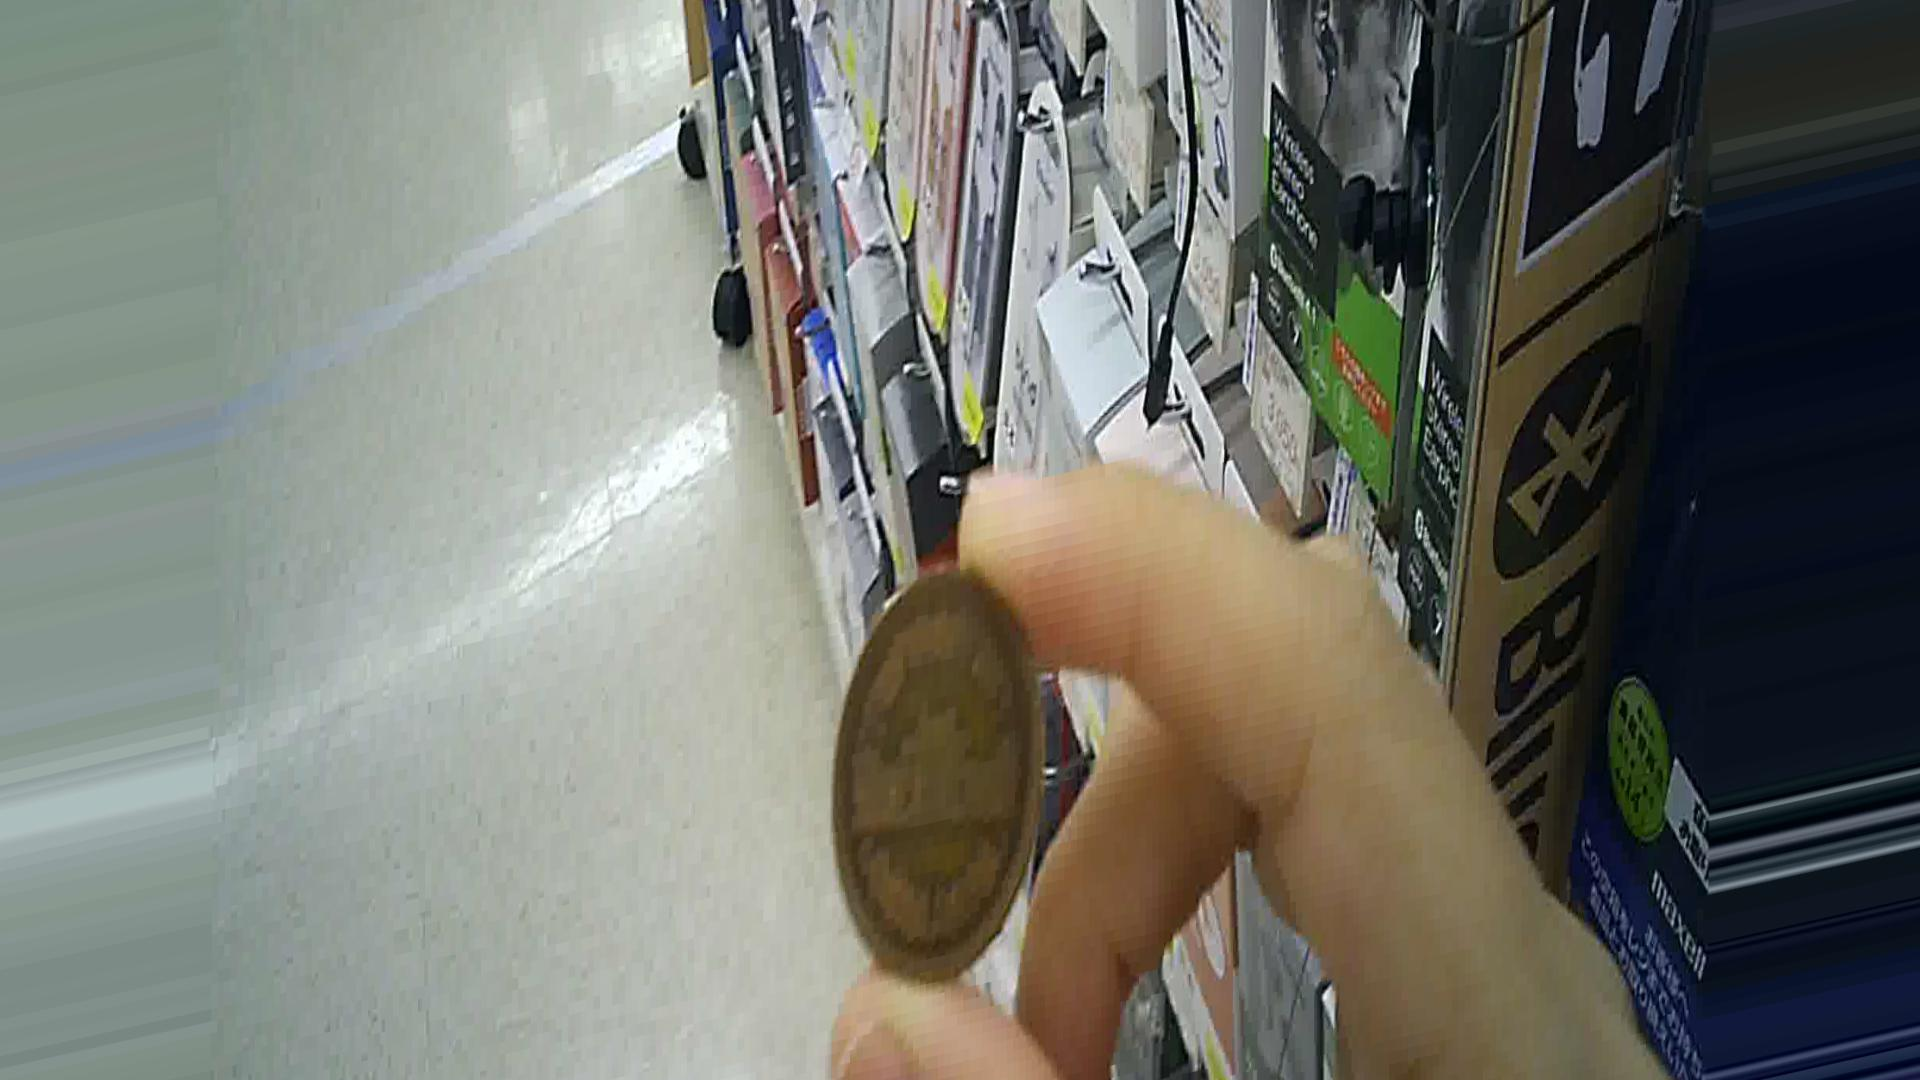10 Yen: (811, 550, 1073, 1002)
